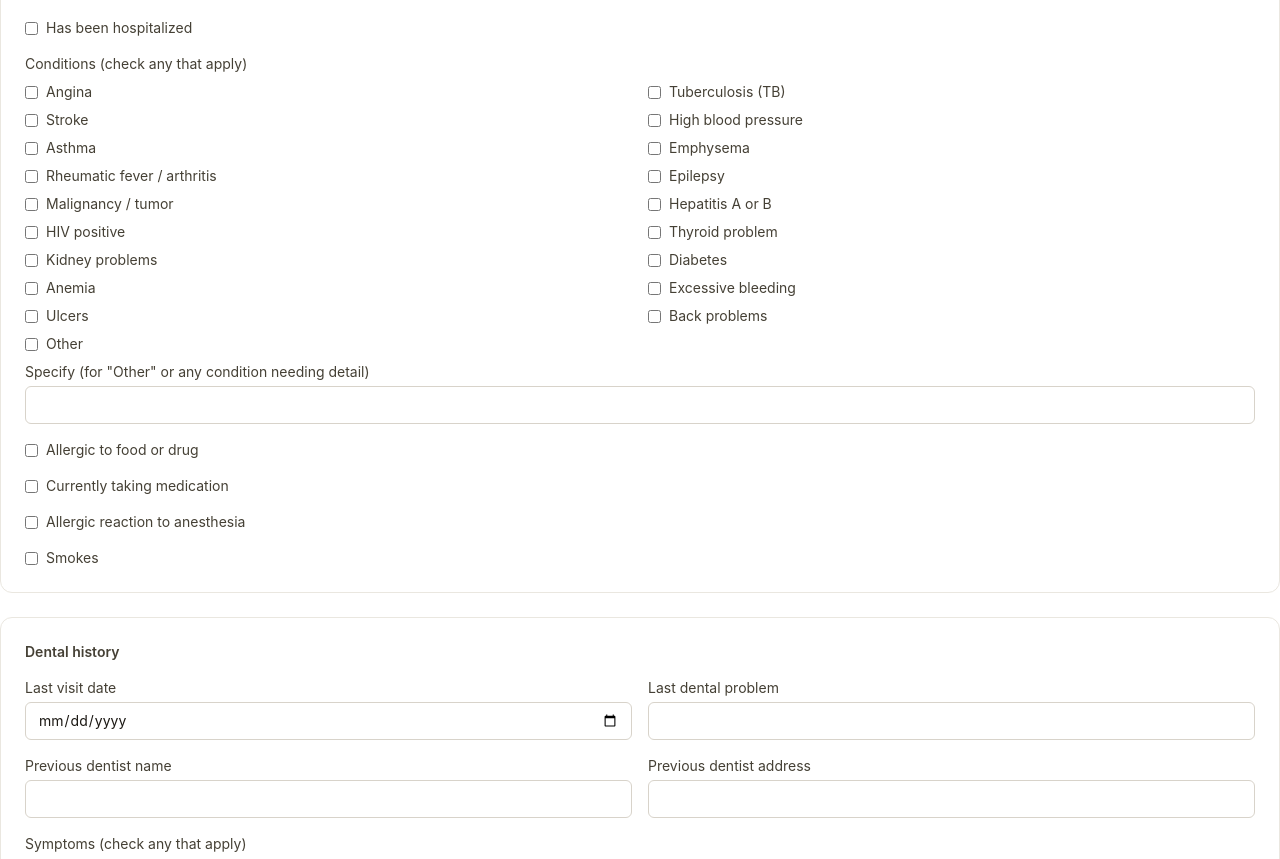
it: PatientForm › reveals the follow-up for "Allergic to food or drug"
(page scrolled)
Click the checkbox labelled "Allergic to food or drug" at coordinates (32, 450), box x1=25 y1=444 x2=38 y2=456
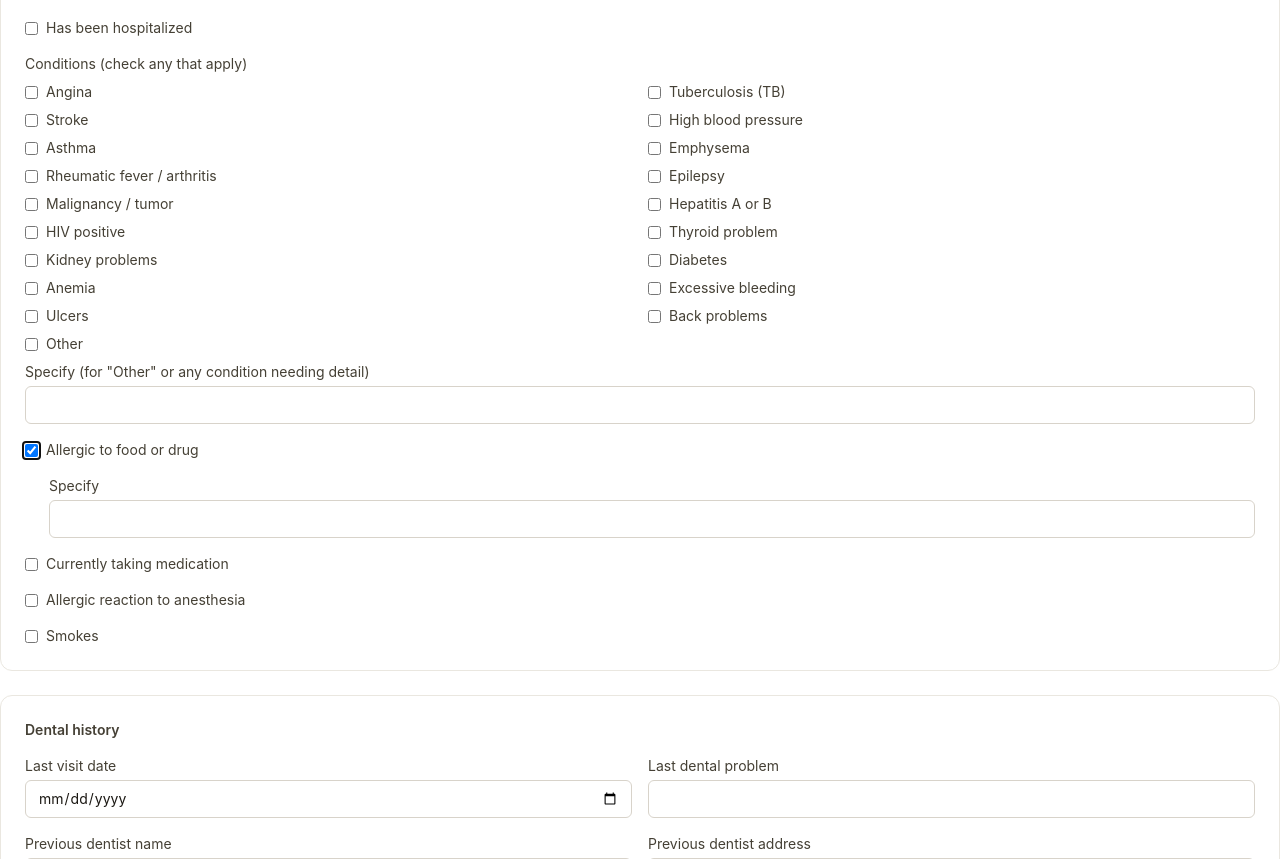
Result: the field labelled "Specify" is shown at x1=49 y1=500 x2=1255 y2=538
